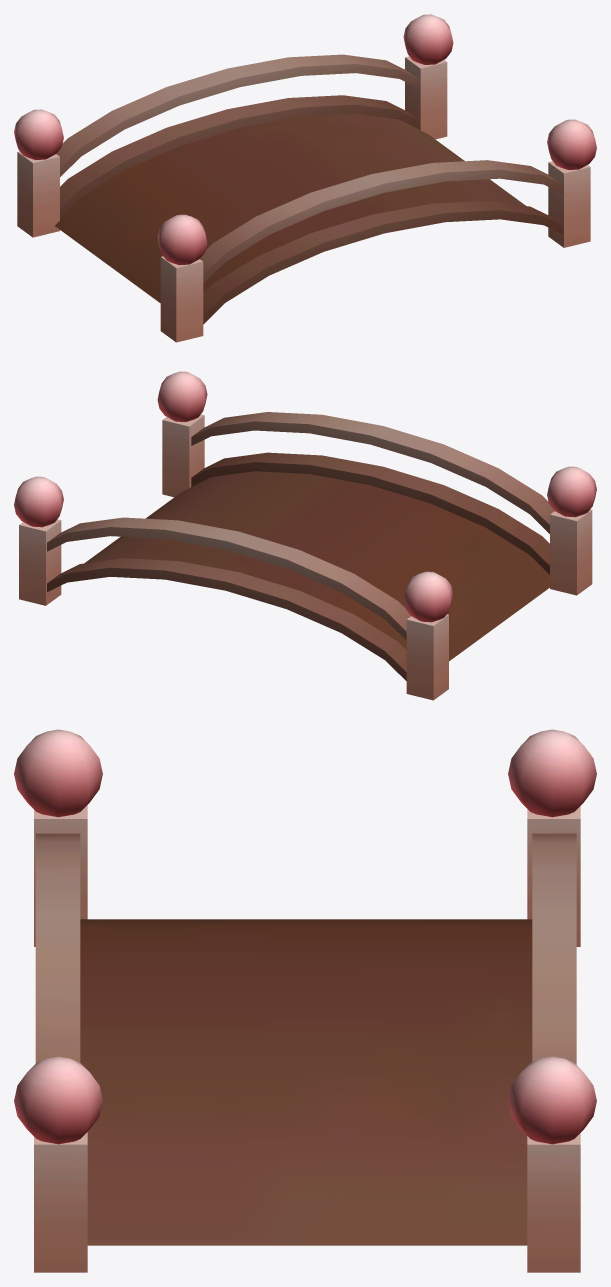
The model's file is Bridge.fbx.
3 views of the same model, one above another, from view 1: azimuth 30°, elevation 25°; view 2: azimuth 150°, elevation 25°; view 3: azimuth 270°, elevation 25° (orthographic). The views are drawn at different scales.
Parts seen in each view (by area): view 1: Bridge; view 2: Bridge; view 3: Bridge.
Boxes of the visible parts, <box> form: Bridge: <box>14,14,596,342</box>; Bridge: <box>14,371,596,700</box>; Bridge: <box>14,729,596,1272</box>.
Size of the model in its own units: 611 by 158 by 413.
Materials: 1 (1 with a texture image).
